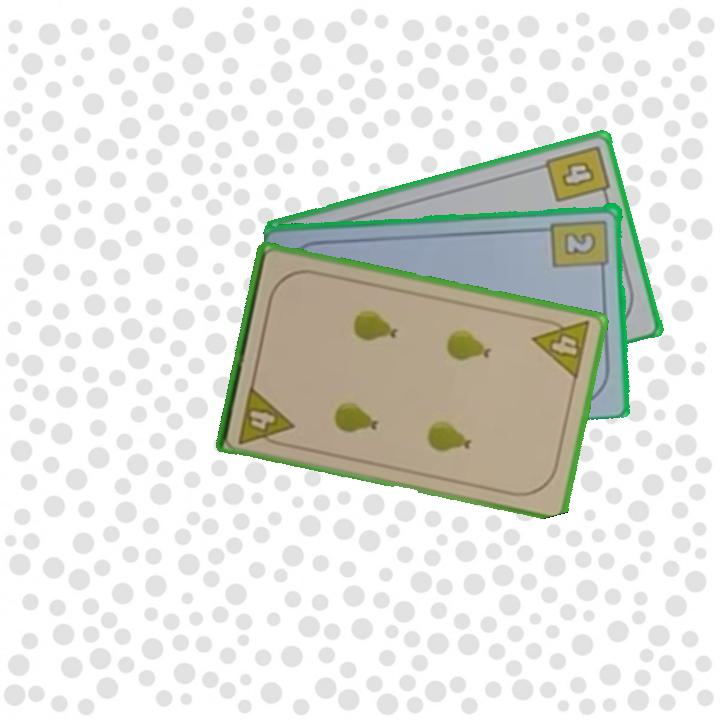2b: (549, 216, 612, 277)
4b: (542, 141, 613, 205)
4p: (529, 313, 594, 382), (235, 382, 296, 450)
